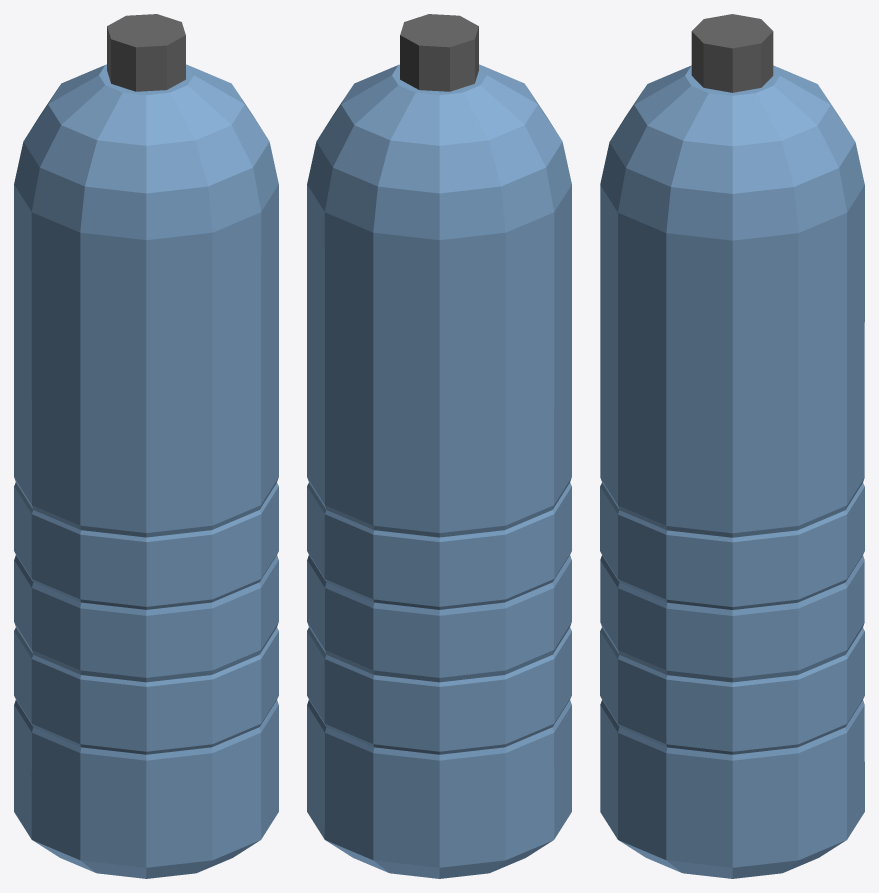
The model's file is WaterBottle_2.glb.
3 renders of one model, left to right at view 1: azimuth 30°, elevation 25°; view 2: azimuth 150°, elevation 25°; view 3: azimuth 270°, elevation 25°, orthographic.
Parts seen in each view (by area): view 1: WaterBottle_2; view 2: WaterBottle_2; view 3: WaterBottle_2.
Boxes of the visible parts, x1=… form: WaterBottle_2: x1=14, y1=14, x2=278, y2=878; WaterBottle_2: x1=307, y1=14, x2=571, y2=878; WaterBottle_2: x1=600, y1=14, x2=864, y2=878.
Bounding box in the file's own units: 0.5512 × 1.85 × 0.5512.
